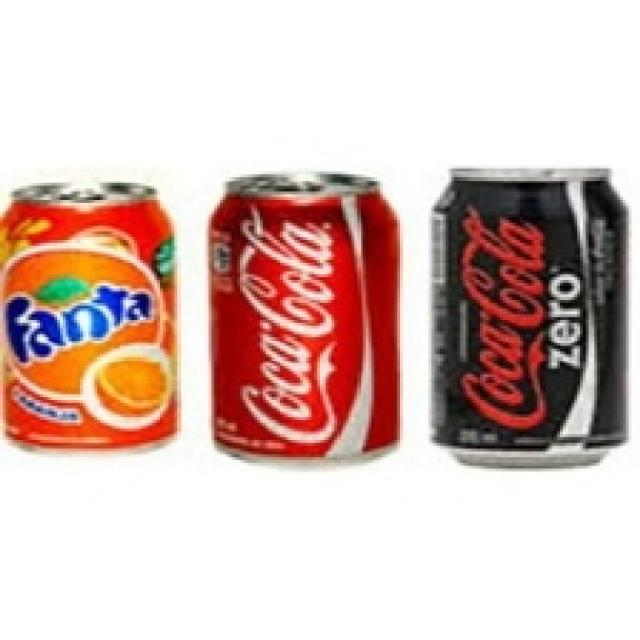can: (426, 165, 631, 474), (205, 169, 404, 466), (0, 175, 181, 461)
